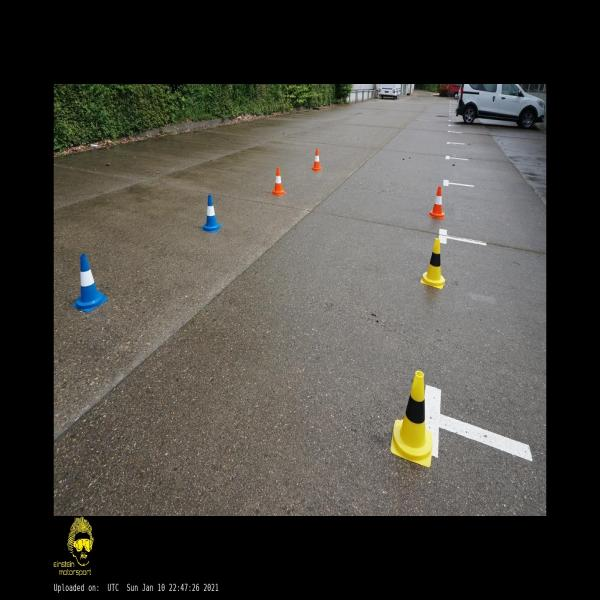blue_cone: (72, 254, 108, 312), (201, 194, 222, 232)
orange_cone: (429, 186, 445, 218), (272, 168, 286, 195), (312, 149, 321, 170)
yellow_cone: (390, 370, 432, 467), (420, 238, 446, 289)
